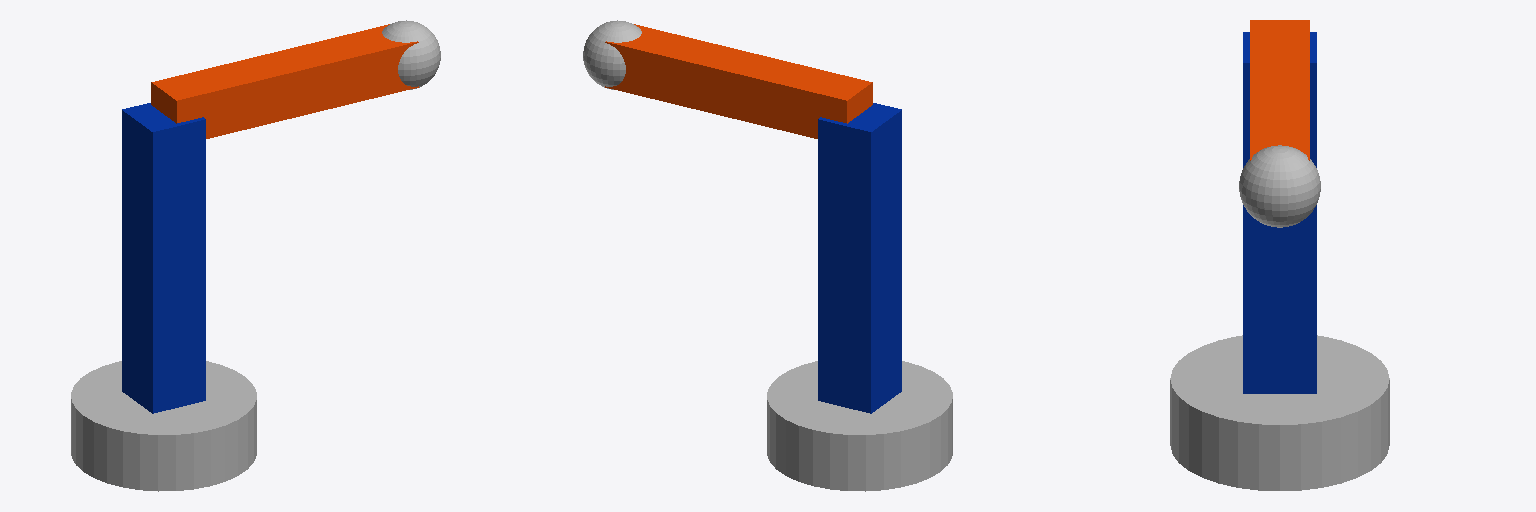
robot.urdf — robotics_ii_tutorial_robot:
<?xml version="1.0"?>
<robot name="robotics_ii_tutorial_robot">

  <material name="vub_blue">
    <color rgba="0.05 0.25 0.70 1.0"/>
  </material>
  <material name="light_grey">
    <color rgba="0.75 0.75 0.75 1.0"/>
  </material>
  <material name="orange">
    <color rgba="0.95 0.35 0.05 1.0"/>
  </material>

  <!-- KDL expects a massless root; the inertial base is its child. -->
  <link name="world"/>

  <link name="base_link">
    <visual>
      <geometry><cylinder radius="0.12" length="0.08"/></geometry>
      <material name="light_grey"/>
    </visual>
    <collision>
      <geometry><cylinder radius="0.12" length="0.08"/></geometry>
    </collision>
    <inertial>
      <mass value="2.0"/>
      <inertia ixx="0.008" ixy="0.0" ixz="0.0"
               iyy="0.008" iyz="0.0" izz="0.014"/>
    </inertial>
  </link>

  <joint name="world_to_base" type="fixed">
    <parent link="world"/>
    <child link="base_link"/>
    <origin xyz="0 0 0.04" rpy="0 0 0"/>
  </joint>

  <link name="link_1">
    <visual>
      <origin xyz="0 0 0.20" rpy="0 0 0"/>
      <geometry><box size="0.08 0.08 0.40"/></geometry>
      <material name="vub_blue"/>
    </visual>
    <collision>
      <origin xyz="0 0 0.20" rpy="0 0 0"/>
      <geometry><box size="0.08 0.08 0.40"/></geometry>
    </collision>
    <inertial>
      <origin xyz="0 0 0.20" rpy="0 0 0"/>
      <mass value="1.0"/>
      <inertia ixx="0.0139" ixy="0.0" ixz="0.0"
               iyy="0.0139" iyz="0.0" izz="0.0011"/>
    </inertial>
  </link>

  <joint name="joint_1" type="revolute">
    <parent link="base_link"/>
    <child link="link_1"/>
    <origin xyz="0 0 0.04" rpy="0 0 0"/>
    <axis xyz="0 0 1"/>
    <limit lower="-2.8" upper="2.8" effort="20.0" velocity="1.5"/>
  </joint>

  <link name="link_2">
    <visual>
      <origin xyz="0.18 0 0" rpy="0 0 0"/>
      <geometry><box size="0.36 0.065 0.065"/></geometry>
      <material name="orange"/>
    </visual>
    <collision>
      <origin xyz="0.18 0 0" rpy="0 0 0"/>
      <geometry><box size="0.36 0.065 0.065"/></geometry>
    </collision>
    <inertial>
      <origin xyz="0.18 0 0" rpy="0 0 0"/>
      <mass value="0.6"/>
      <inertia ixx="0.0004" ixy="0.0" ixz="0.0"
               iyy="0.0067" iyz="0.0" izz="0.0067"/>
    </inertial>
  </link>

  <joint name="joint_2" type="revolute">
    <parent link="link_1"/>
    <child link="link_2"/>
    <origin xyz="0 0 0.40" rpy="0 0 0"/>
    <axis xyz="0 1 0"/>
    <limit lower="-1.57" upper="1.57" effort="10.0" velocity="1.5"/>
  </joint>

  <link name="tool0">
    <visual>
      <geometry><sphere radius="0.045"/></geometry>
      <material name="light_grey"/>
    </visual>
  </link>

  <joint name="tool_joint" type="fixed">
    <parent link="link_2"/>
    <child link="tool0"/>
    <origin xyz="0.36 0 0" rpy="0 0 0"/>
  </joint>
</robot>

--- Render facts (derived) ---
The picture shows the robot from 3 angles, left to right: view 1: azimuth 30°, elevation 25°; view 2: azimuth 150°, elevation 25°; view 3: azimuth 270°, elevation 25°; orthographic projection.
Robot: robotics_ii_tutorial_robot — 5 links, 4 joints (2 revolute, 2 fixed); root link world; default pose: every joint at zero.
Visible links, largest first — view 1: link_1, base_link, link_2, tool0; view 2: link_1, base_link, link_2, tool0; view 3: base_link, link_1, link_2, tool0.
Link boxes in pixels (box(x1,y1,x2,y2)): link_1: box(122, 103, 205, 413); base_link: box(71, 361, 256, 491); link_2: box(151, 24, 418, 138); tool0: box(382, 20, 440, 89); link_1: box(818, 103, 901, 413); base_link: box(767, 361, 952, 491); link_2: box(605, 24, 872, 138); tool0: box(583, 20, 641, 89); base_link: box(1170, 335, 1389, 490); link_1: box(1243, 32, 1316, 393); link_2: box(1250, 20, 1309, 160); tool0: box(1239, 145, 1320, 227).
Size in the robot's own frame: 0.525 by 0.24 by 0.525 metres.
Geometry: primitives only (box / cylinder / sphere), no mesh files.
